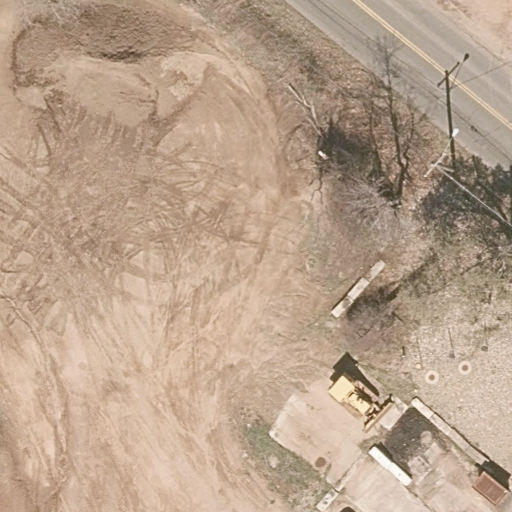DT: (422, 127, 462, 180)
